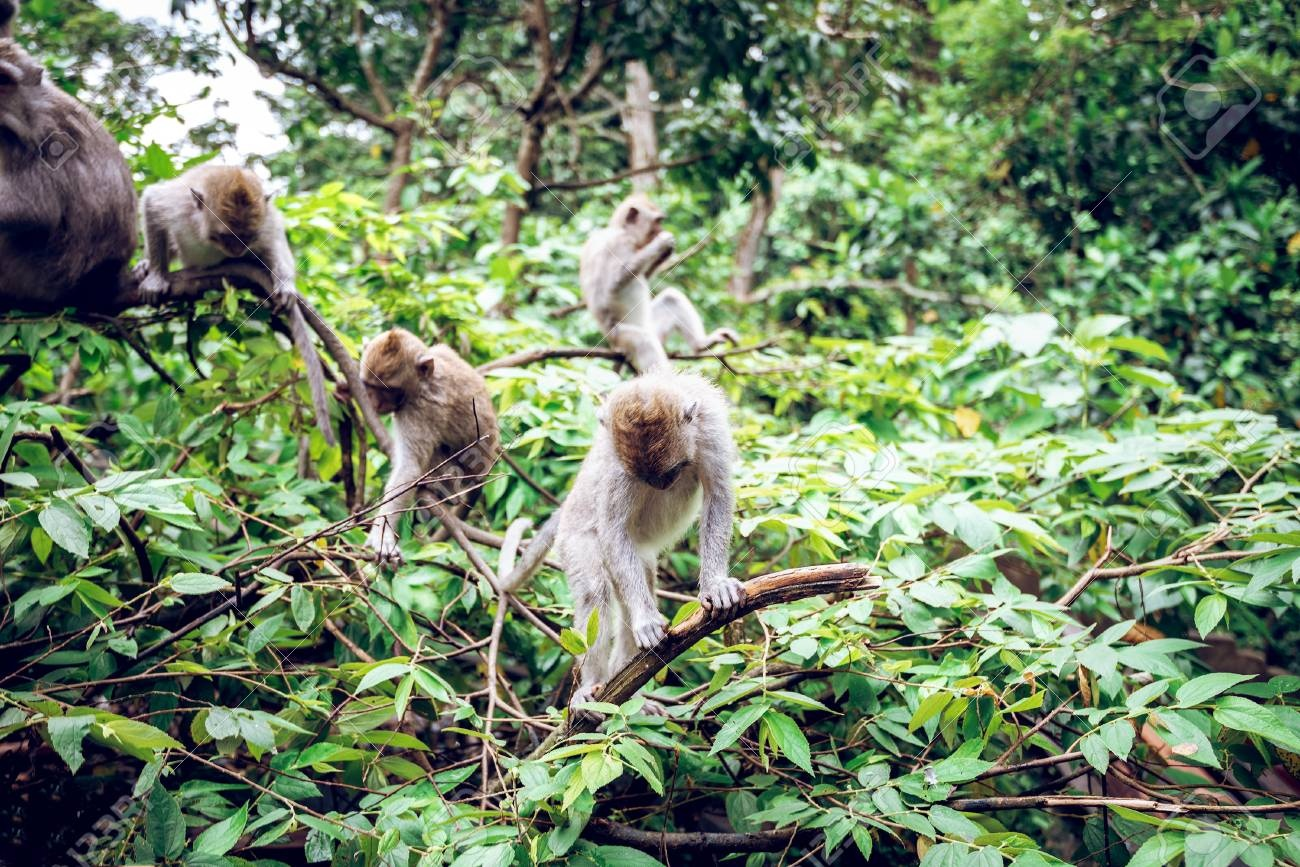monkey: (494, 372, 762, 727), (137, 141, 342, 442), (352, 317, 502, 570), (576, 194, 748, 375)
